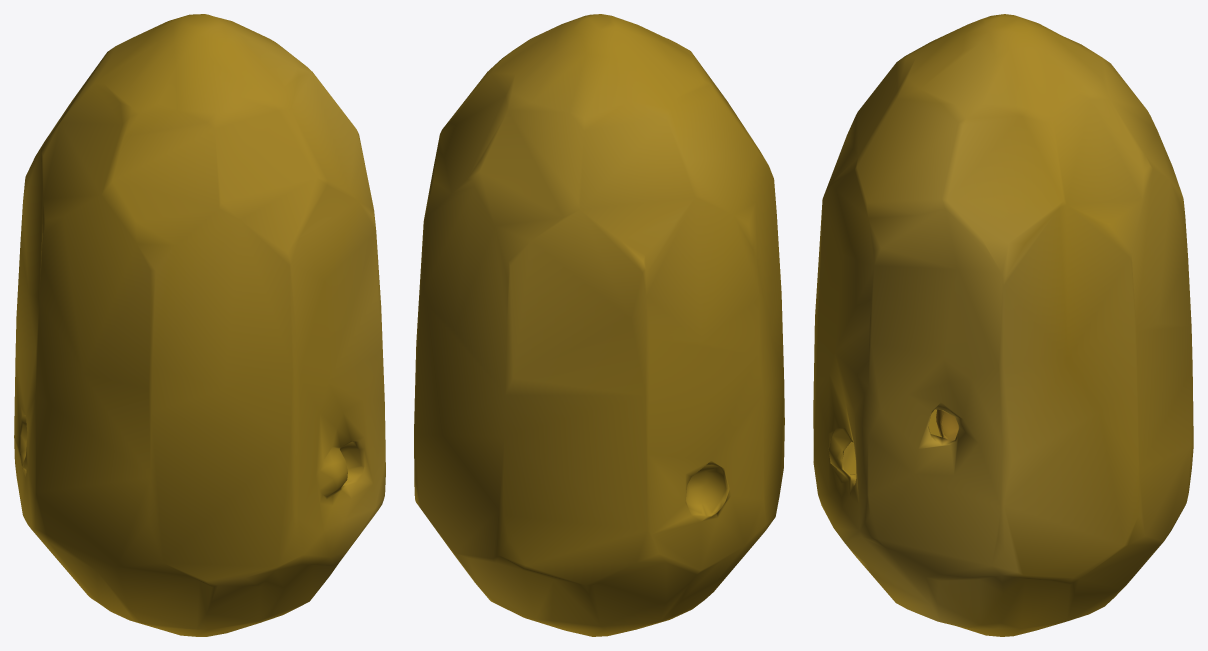
Rendered from gen3d-potato-lod1.glb.
3 renders of one model, left to right at view 1: azimuth 30°, elevation 25°; view 2: azimuth 150°, elevation 25°; view 3: azimuth 270°, elevation 25°, orthographic.
Parts seen in each view (by area): view 1: part_0; view 2: part_0; view 3: part_0.
Part boxes in pixels (x1,y1,x2,y2): part_0: (14, 14, 385, 636); part_0: (414, 14, 784, 636); part_0: (813, 14, 1193, 636).
Size of the model in its own units: 0.5656 by 0.999 by 0.5663.
